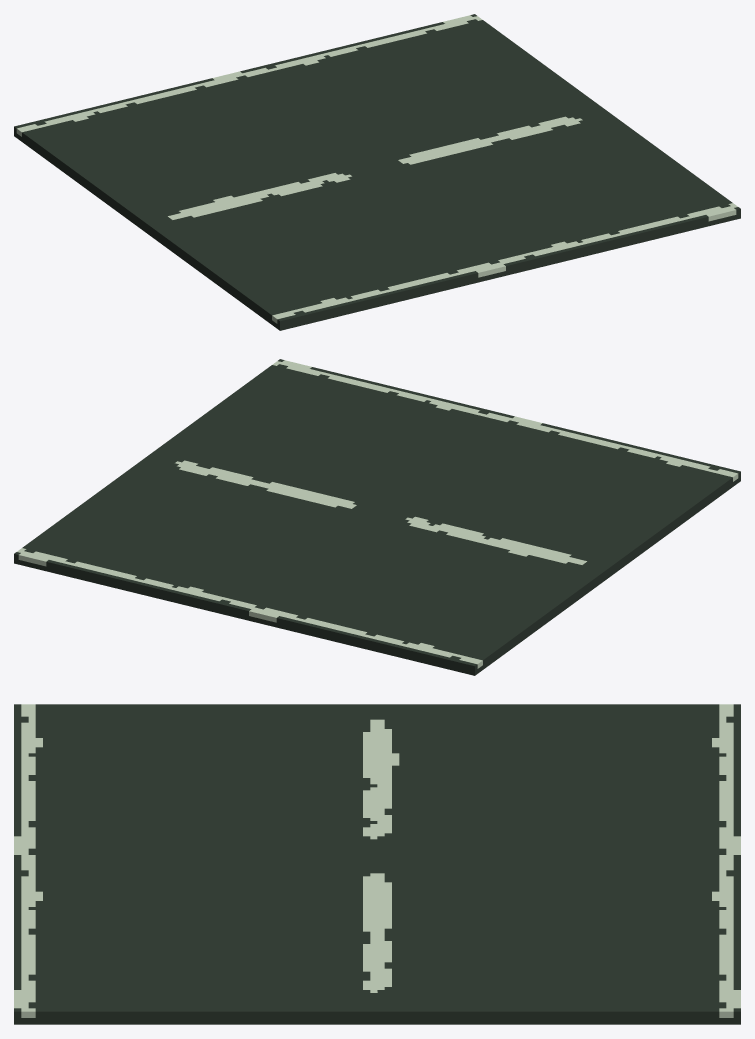
Rendered from nuke_road_tile_1.glb.
The picture shows the model from 3 angles, top to bottom: view 1: azimuth 30°, elevation 25°; view 2: azimuth 150°, elevation 25°; view 3: azimuth 270°, elevation 25°; orthographic projection. The views are drawn at different scales.
Parts seen in each view (by area): view 1: nuke_road_tile_1; view 2: nuke_road_tile_1; view 3: nuke_road_tile_1.
Boxes of the visible parts, box(x1,y1,x2,y2) form: nuke_road_tile_1: box(14, 14, 740, 330); nuke_road_tile_1: box(14, 359, 740, 675); nuke_road_tile_1: box(14, 704, 740, 1024).
Size of the model in its own units: 5 by 0.1 by 5.
Materials: 1 (1 with a texture image).
